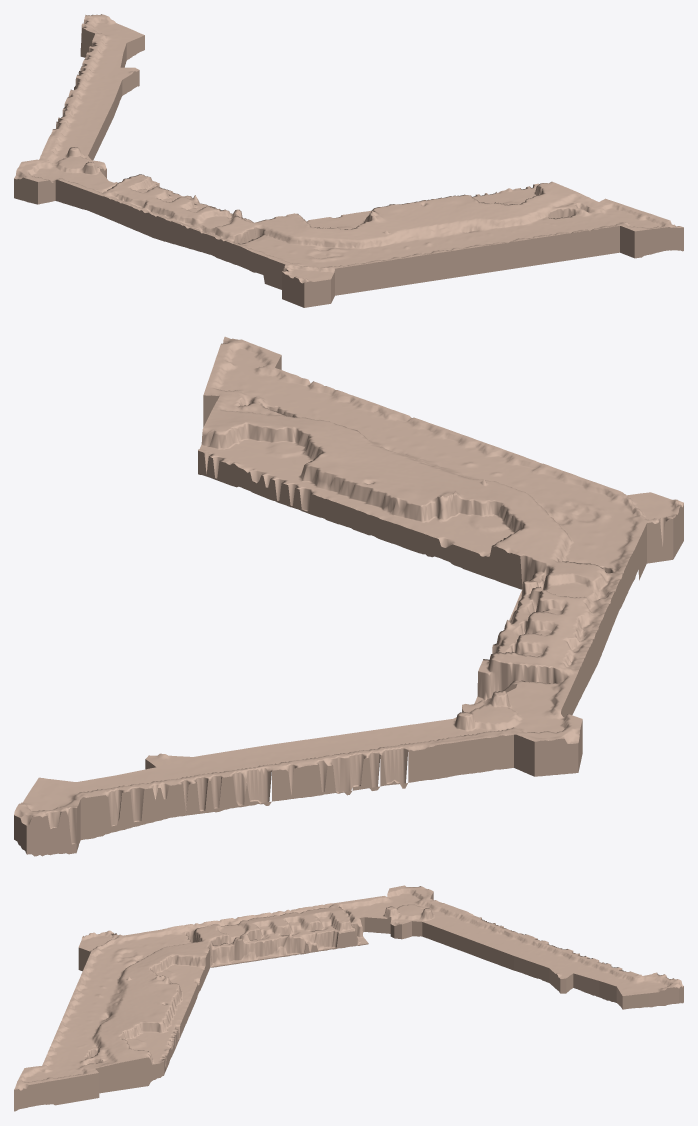
Rendered from kw_fort_zachary_taylor.glb.
3 views of the same model, one above another, from view 1: azimuth 30°, elevation 25°; view 2: azimuth 150°, elevation 25°; view 3: azimuth 270°, elevation 25° (orthographic). The views are drawn at different scales.
Visible parts, largest first — view 1: FortSurface, FortWalls-col; view 2: FortSurface, FortWalls-col; view 3: FortSurface, FortWalls-col.
Part boxes in pixels (left/top/right/bottom): FortSurface: left=14, top=14, right=683, bottom=283; FortWalls-col: left=14, top=28, right=683, bottom=307; FortSurface: left=14, top=336, right=683, bottom=844; FortWalls-col: left=14, top=355, right=683, bottom=856; FortSurface: left=14, top=885, right=683, bottom=1090; FortWalls-col: left=14, top=892, right=683, bottom=1111.
Size of what is drawn, in the model's own units: 134 by 10.17 by 186.
